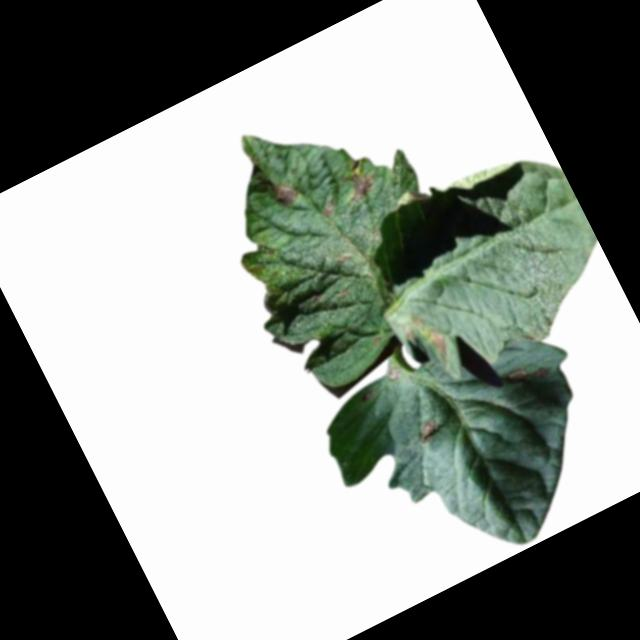Early_blight: (398, 305, 456, 370), (342, 161, 384, 205), (270, 177, 301, 209), (412, 417, 445, 447), (383, 363, 404, 385), (322, 200, 338, 218)
